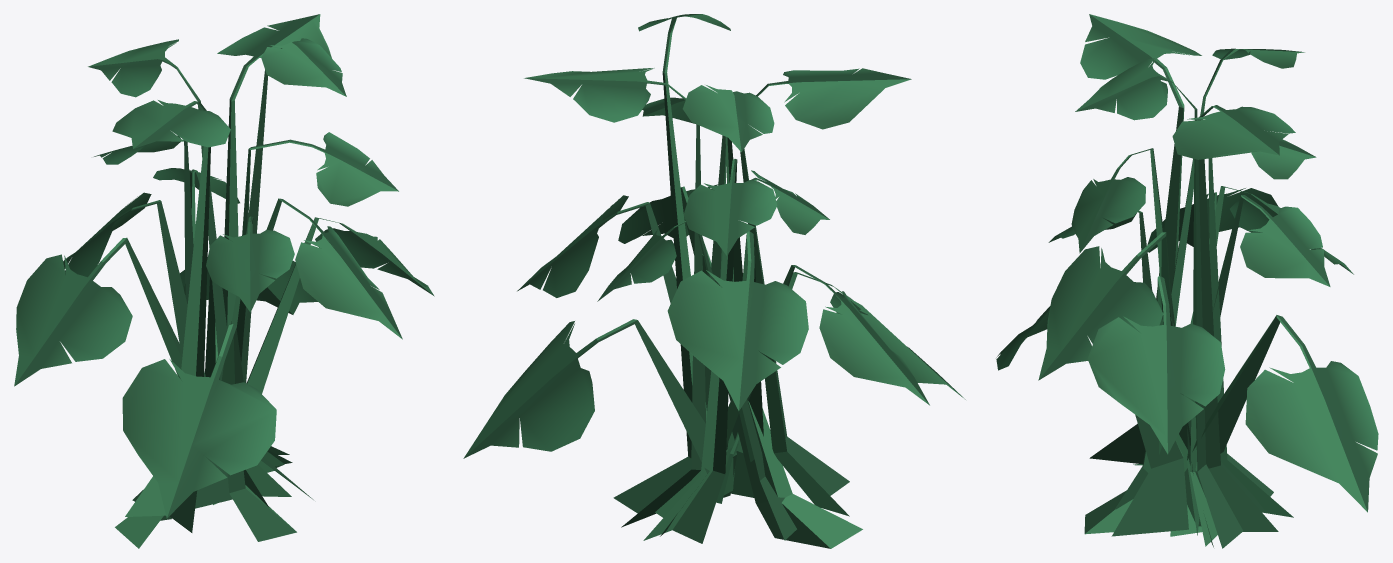
The model's file is bigleaf.glb.
3 views of the same model, side by side, from view 1: azimuth 30°, elevation 25°; view 2: azimuth 150°, elevation 25°; view 3: azimuth 270°, elevation 25° (orthographic). The views are drawn at different scales.
Parts seen in each view (by area): view 1: Plane.006; view 2: Plane.006; view 3: Plane.006.
Part boxes in pixels (left/top/right/bottom): Plane.006: left=14, top=14, right=434, bottom=548; Plane.006: left=463, top=14, right=965, bottom=548; Plane.006: left=996, top=14, right=1378, bottom=548.
Bounding box in the file's own units: 6.01 × 6.53 × 4.7.
